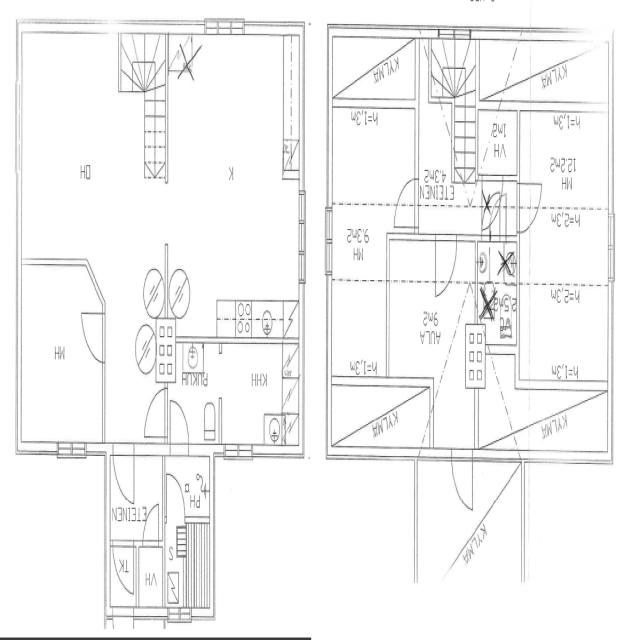door: (110, 440, 138, 508), (78, 303, 107, 367), (449, 446, 476, 514), (432, 229, 459, 295), (142, 378, 168, 445), (110, 536, 137, 598), (166, 391, 192, 455), (392, 173, 418, 231), (518, 178, 543, 233), (164, 467, 186, 522), (140, 499, 163, 548)
window: (294, 185, 308, 289), (205, 10, 247, 40), (53, 432, 91, 464), (604, 205, 617, 285), (322, 203, 335, 281), (224, 437, 256, 463), (438, 24, 472, 38)
zone: (166, 26, 299, 341), (16, 25, 165, 258), (517, 108, 610, 450), (388, 229, 478, 450), (19, 261, 104, 450), (169, 338, 301, 446), (417, 29, 479, 235), (478, 25, 612, 108), (329, 105, 418, 209), (330, 30, 423, 104), (168, 512, 214, 615), (478, 238, 518, 342), (476, 111, 518, 178), (135, 543, 165, 611), (465, 323, 485, 389), (157, 319, 176, 379)
